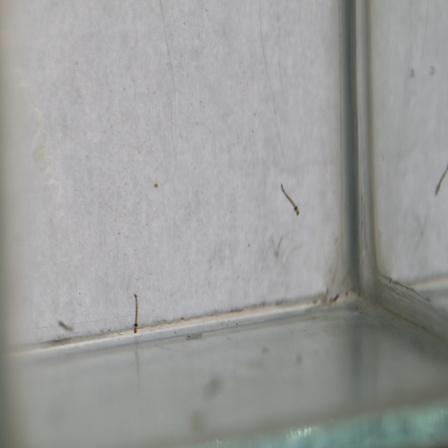Jentik-Nyamuk: (278, 177, 302, 222), (127, 293, 144, 336)
